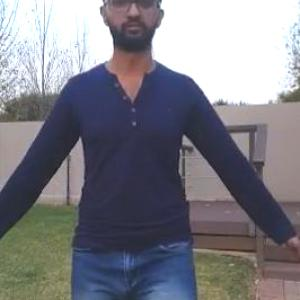land: (0, 6, 290, 299)
